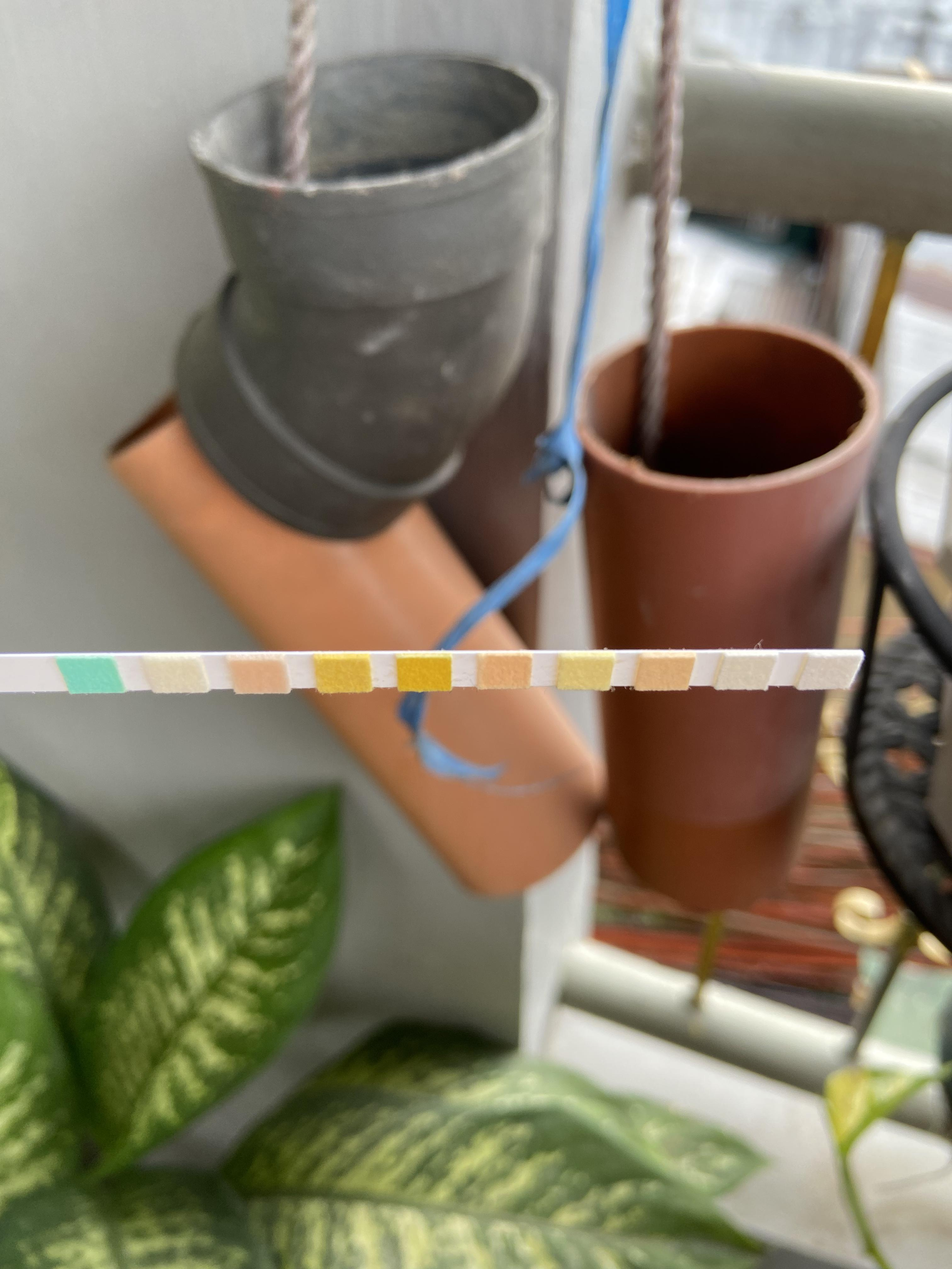Bilirubin: (155, 659, 196, 691)
Blood: (400, 657, 449, 690)
Glucose: (73, 659, 110, 691)
Ketone: (236, 660, 279, 693)
Leukocytes: (813, 659, 848, 688)
Nitrite: (727, 657, 765, 689)
Protein: (559, 658, 607, 688)
SpGravity: (322, 659, 366, 692)
Urobilinogen: (644, 658, 685, 689)
pH: (481, 655, 530, 688)
strip: (2, 651, 863, 692)
